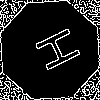H: (25, 25, 82, 78)
